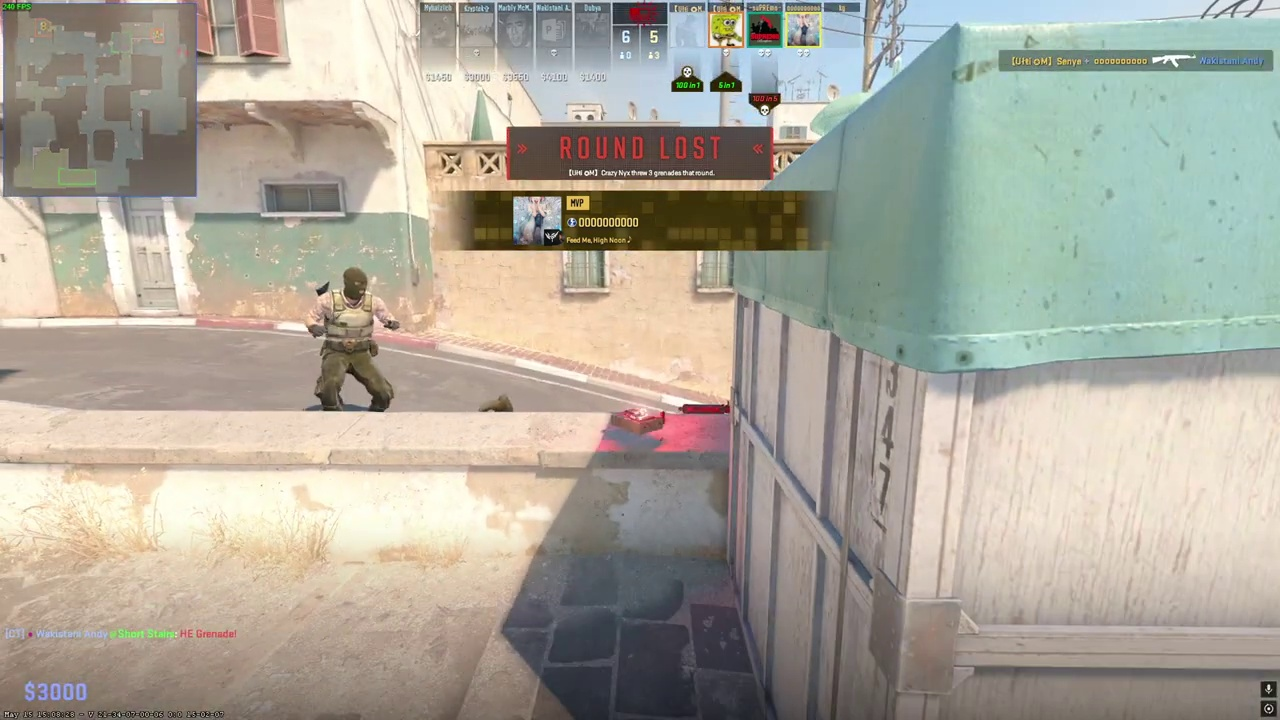Terrorist: (314, 267, 393, 412)
